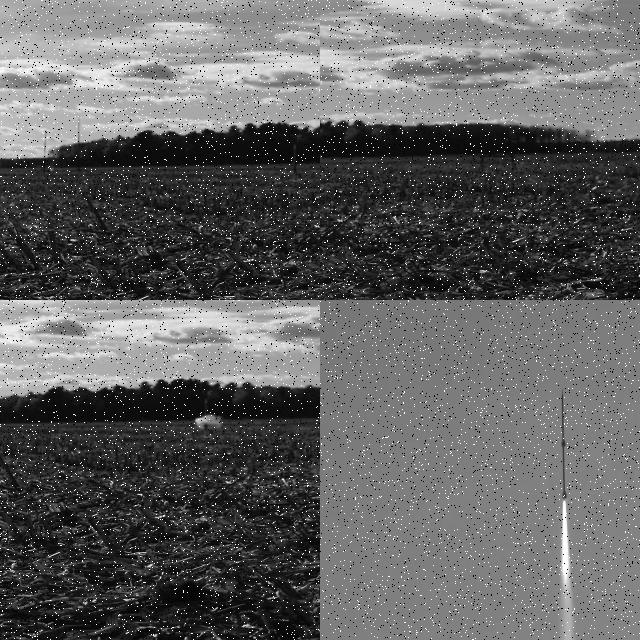Rocket: (560, 388, 567, 502), (292, 144, 298, 164), (203, 398, 208, 422)
